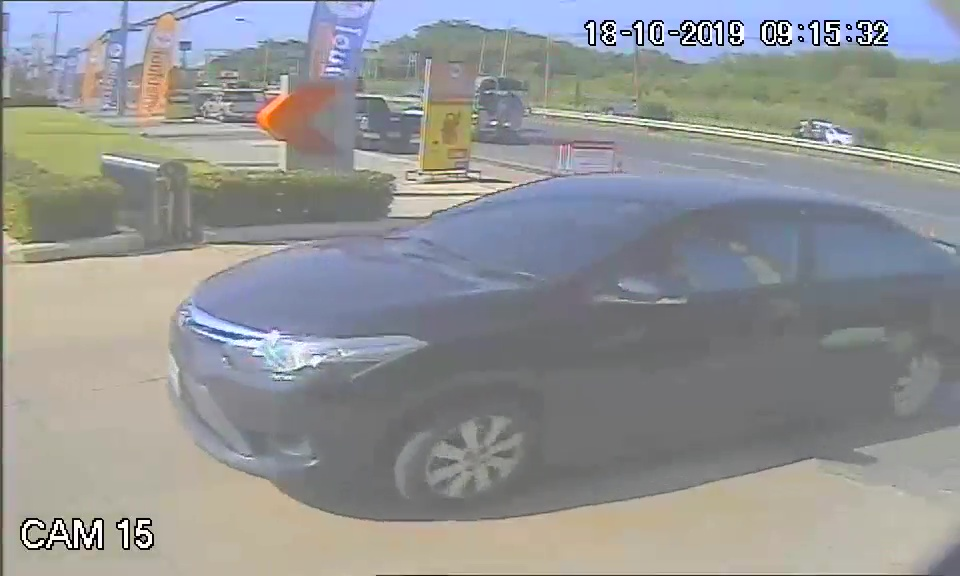sedan: (161, 167, 955, 507)
